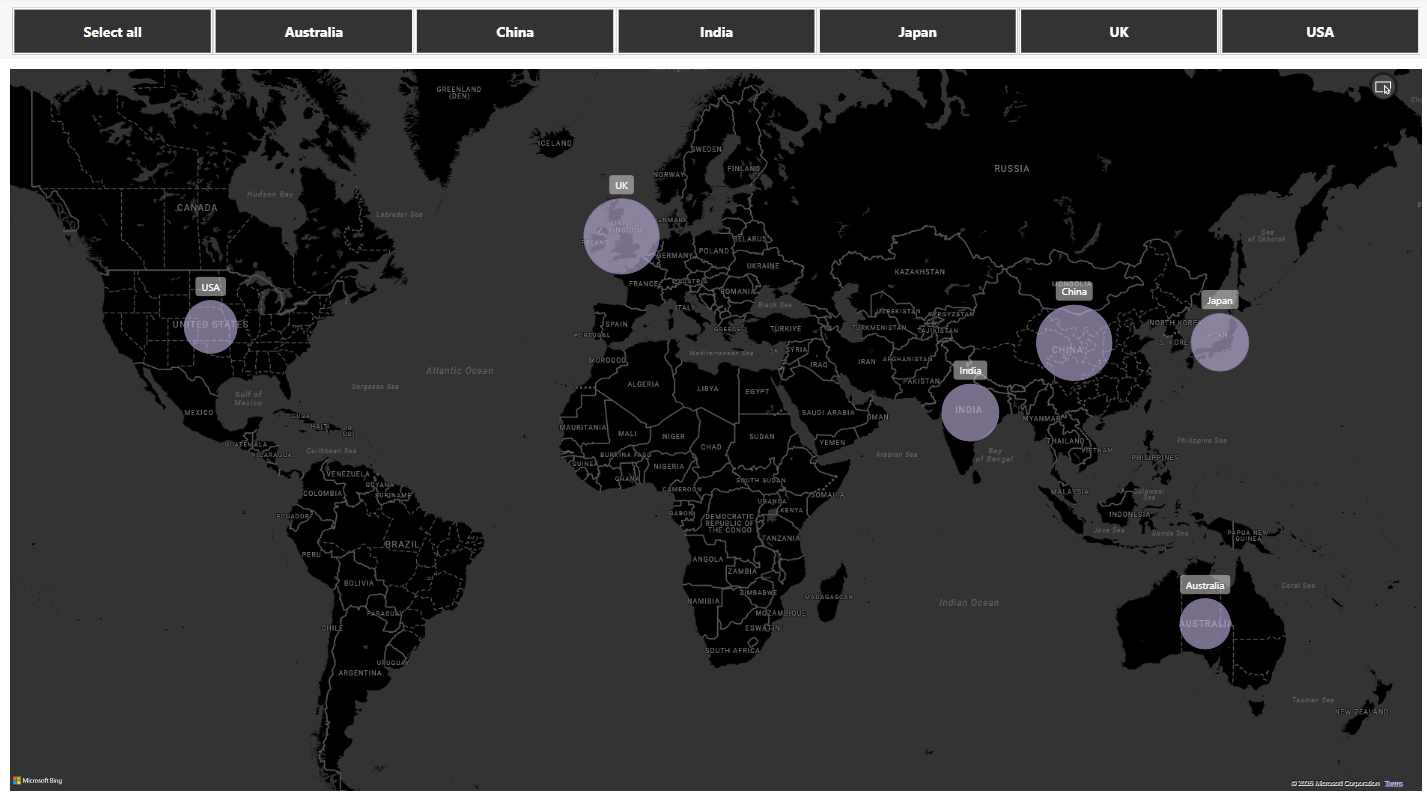

What the dashboard file says about the page in this screenshot:
{"tool":"powerbi","page":{"name":"Map","canvas":[1920,1080],"ordinal":2},"visuals":[{"type":"map","fields":{"Category":["Territory Lookup.Country"],"Size":["Measures Table.Total Orders"]},"box":[0,82.2,1919.6,997.7],"z":0},{"type":"slicer","fields":{"Values":["Territory Lookup.Country"]},"box":[0,12.7,1920.1,67],"z":1}]}

Visuals, with their boxes in screenshot pixels (x1, y1, x2, y2), scaled from the page's 1920x1080 canvas onto the 1427x797 screenshot:
map - Territory Lookup.Country x Measures Table.Total Orders: 0:61:1426:796
slicer - Territory Lookup.Country: 0:9:1426:59
